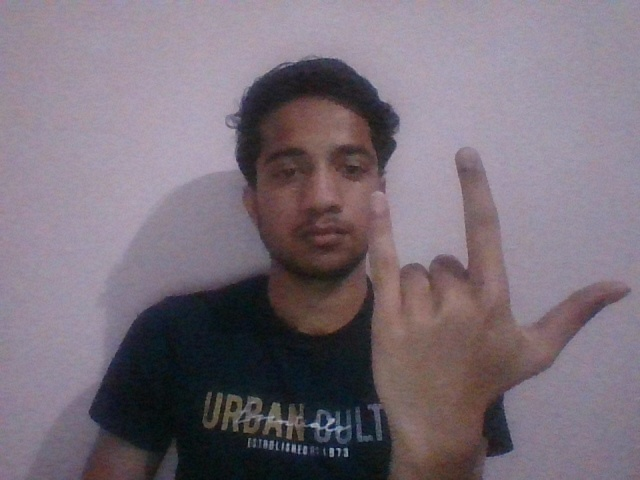iloveyou: (367, 146, 633, 440)
